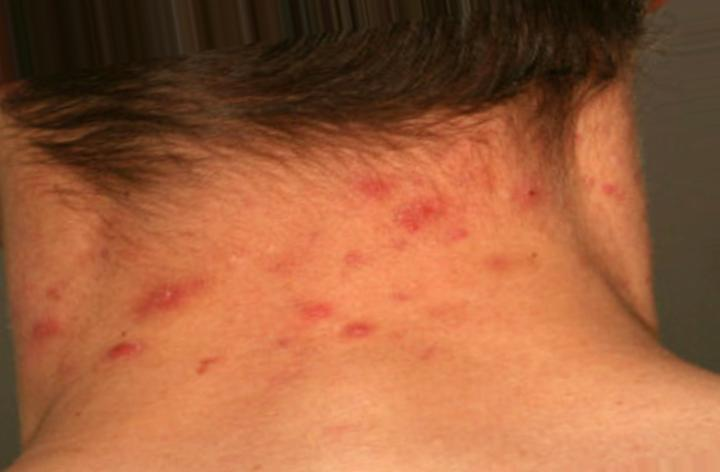Folliculitis: (36, 174, 453, 363)
